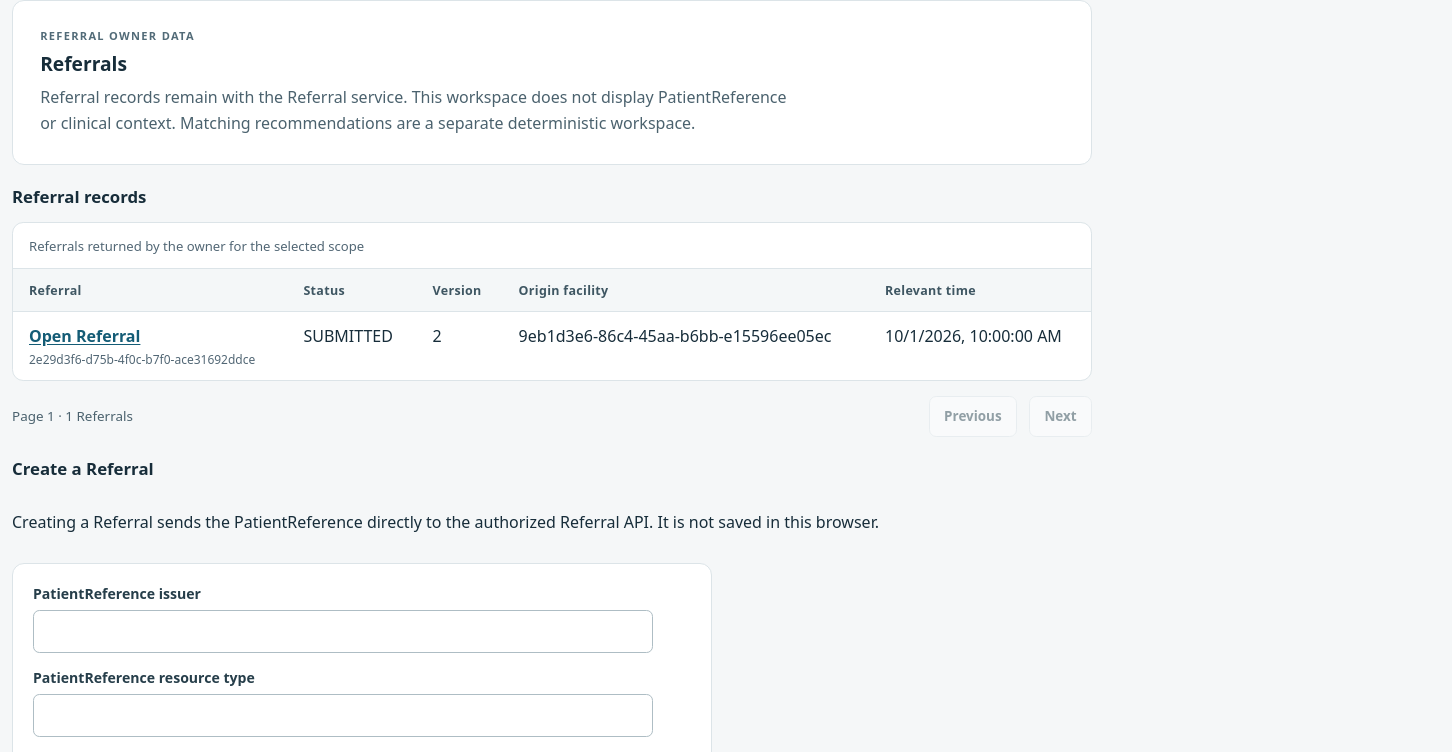
Referral workspace › loads scoped records, opens detail, and never renders PatientReference
Click the button "Open Referral": (85, 336) x1=29 y1=325 x2=140 y2=347
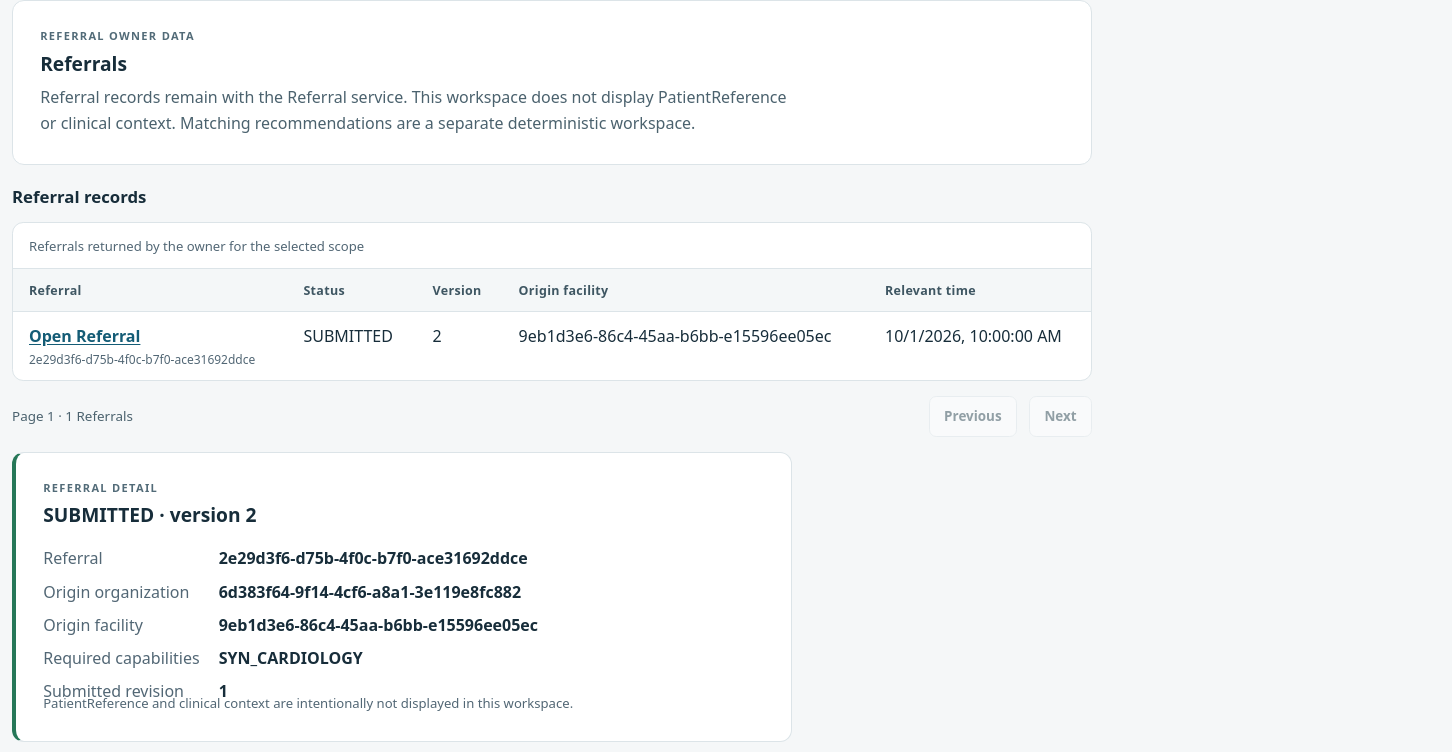
Result: the heading "SUBMITTED · version 2" is shown at x1=43 y1=501 x2=256 y2=528
